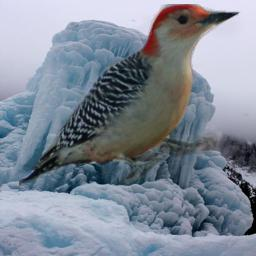Woodpecker: (19, 4, 244, 186)
